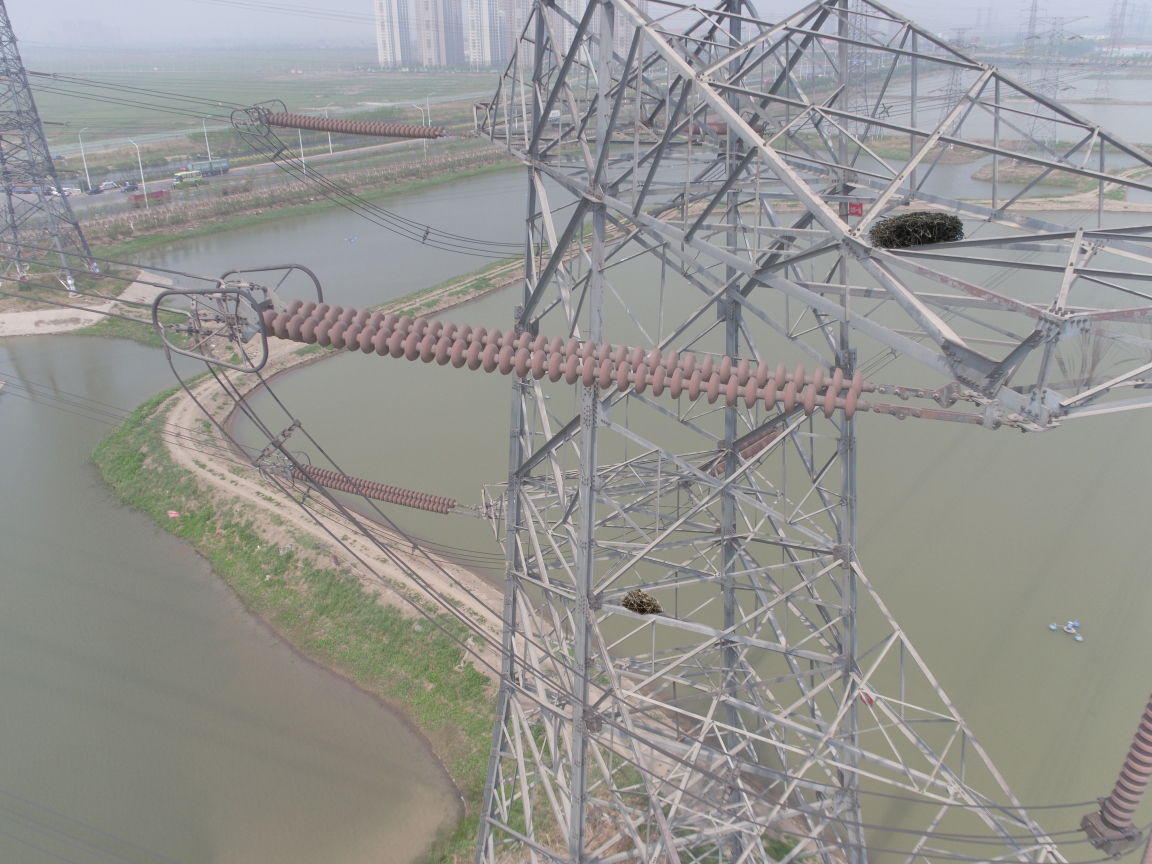nest: (865, 200, 971, 257), (621, 586, 668, 618)
